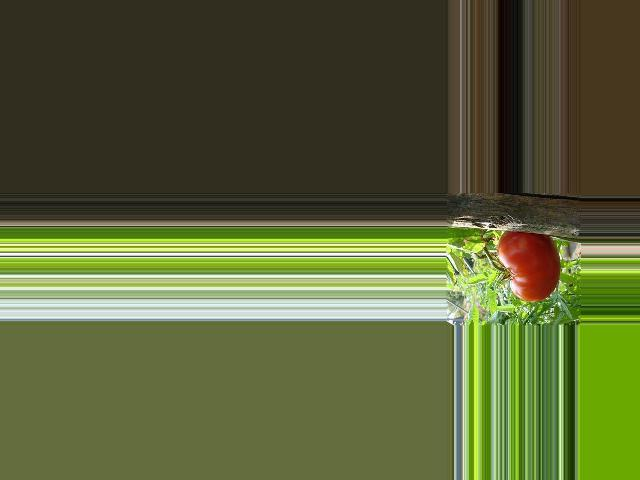tomato: (496, 230, 559, 302)
